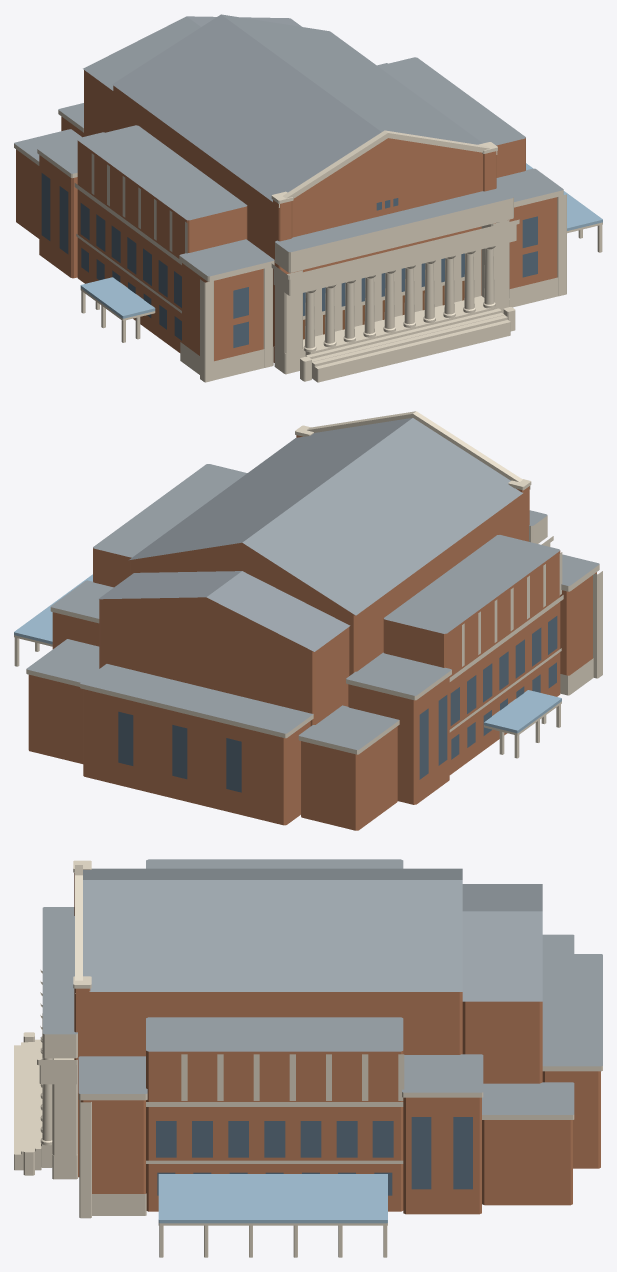
The model's file is msp-northrop.glb.
3 views of the same model, one above another, from view 1: azimuth 30°, elevation 25°; view 2: azimuth 150°, elevation 25°; view 3: azimuth 270°, elevation 25° (orthographic). The views are drawn at different scales.
Parts seen in each view (by area): view 1: msp-northrop; view 2: msp-northrop; view 3: msp-northrop.
Boxes of the visible parts, bbox=[...] form: msp-northrop: bbox=[14, 14, 602, 382]; msp-northrop: bbox=[14, 411, 602, 830]; msp-northrop: bbox=[14, 859, 602, 1257].
Size of the model in its own units: 87.4 by 38.1 by 84.7.
